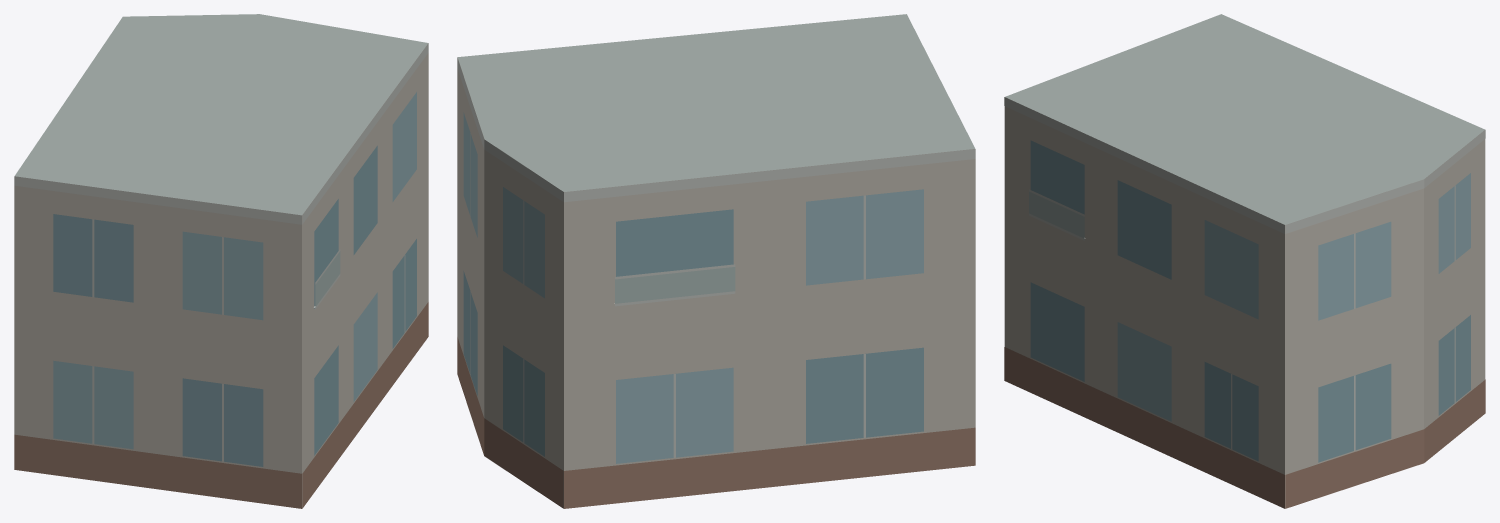
The model's file is survey-upis-32604435.glb.
3 views of the same model, side by side, from view 1: azimuth 30°, elevation 25°; view 2: azimuth 150°, elevation 25°; view 3: azimuth 270°, elevation 25° (orthographic). The views are drawn at different scales.
Visible parts, largest first — view 1: survey-upis-32604435.tmp; view 2: survey-upis-32604435.tmp; view 3: survey-upis-32604435.tmp.
Boxes of the visible parts, x1,y1,x2,y2 form: survey-upis-32604435.tmp: (14, 14, 428, 508); survey-upis-32604435.tmp: (457, 14, 975, 508); survey-upis-32604435.tmp: (1004, 14, 1485, 508).
Bounding box in the file's own units: 12.12 × 7.6 × 11.67.
